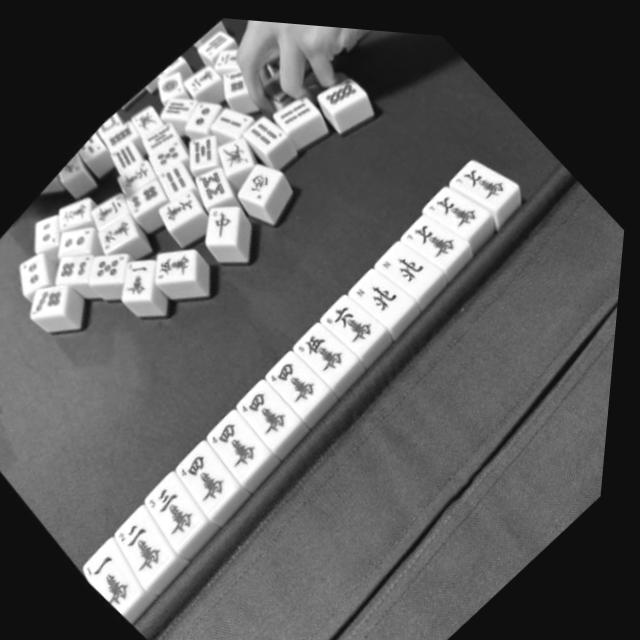hwn: (342, 252, 412, 321), (370, 222, 439, 289)
sc1: (71, 524, 155, 607)
sc2: (100, 488, 188, 576)
sc3: (130, 455, 217, 541)
sc4: (165, 425, 247, 506), (195, 393, 277, 474), (228, 362, 308, 441), (258, 333, 334, 407)
sc5: (285, 306, 359, 378)
sc6: (312, 276, 388, 351)
sc7: (413, 162, 493, 241), (441, 136, 519, 213), (391, 192, 468, 268)
